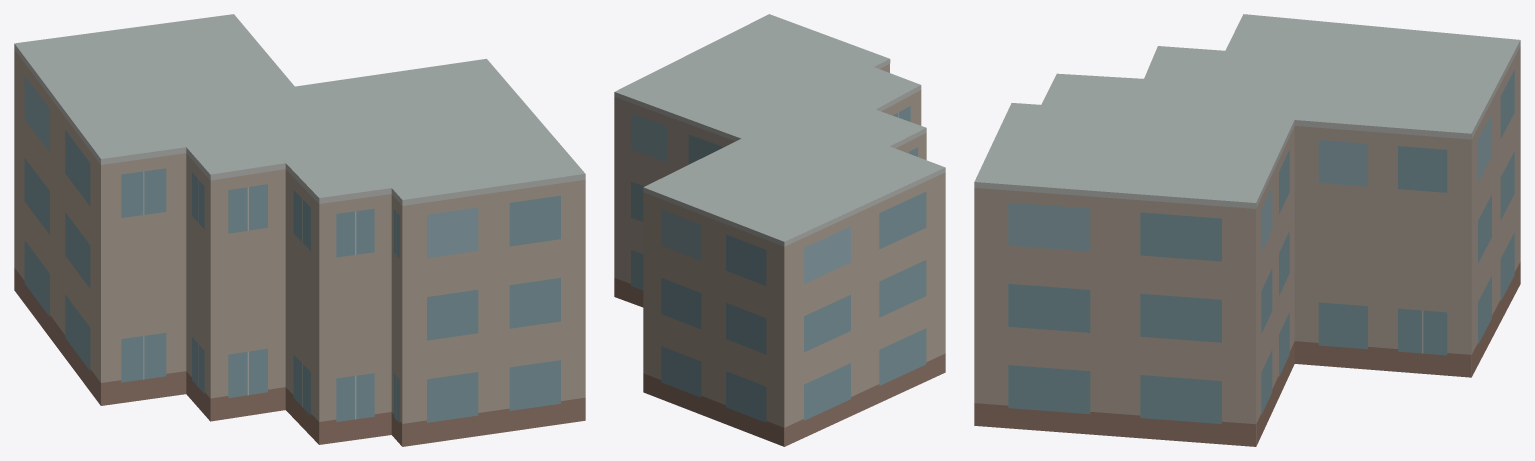
Rendered from survey-upis-32692848.glb.
The picture shows the model from 3 angles, left to right: view 1: azimuth 30°, elevation 25°; view 2: azimuth 150°, elevation 25°; view 3: azimuth 270°, elevation 25°; orthographic projection. The views are drawn at different scales.
Parts seen in each view (by area): view 1: survey-upis-32692848.tmp; view 2: survey-upis-32692848.tmp; view 3: survey-upis-32692848.tmp.
Boxes of the visible parts, x1,y1,x2,y2 form: survey-upis-32692848.tmp: [14, 14, 585, 446]; survey-upis-32692848.tmp: [614, 14, 945, 446]; survey-upis-32692848.tmp: [974, 14, 1520, 446].
Size of the model in its own units: 16.97 by 10.2 by 20.72.
